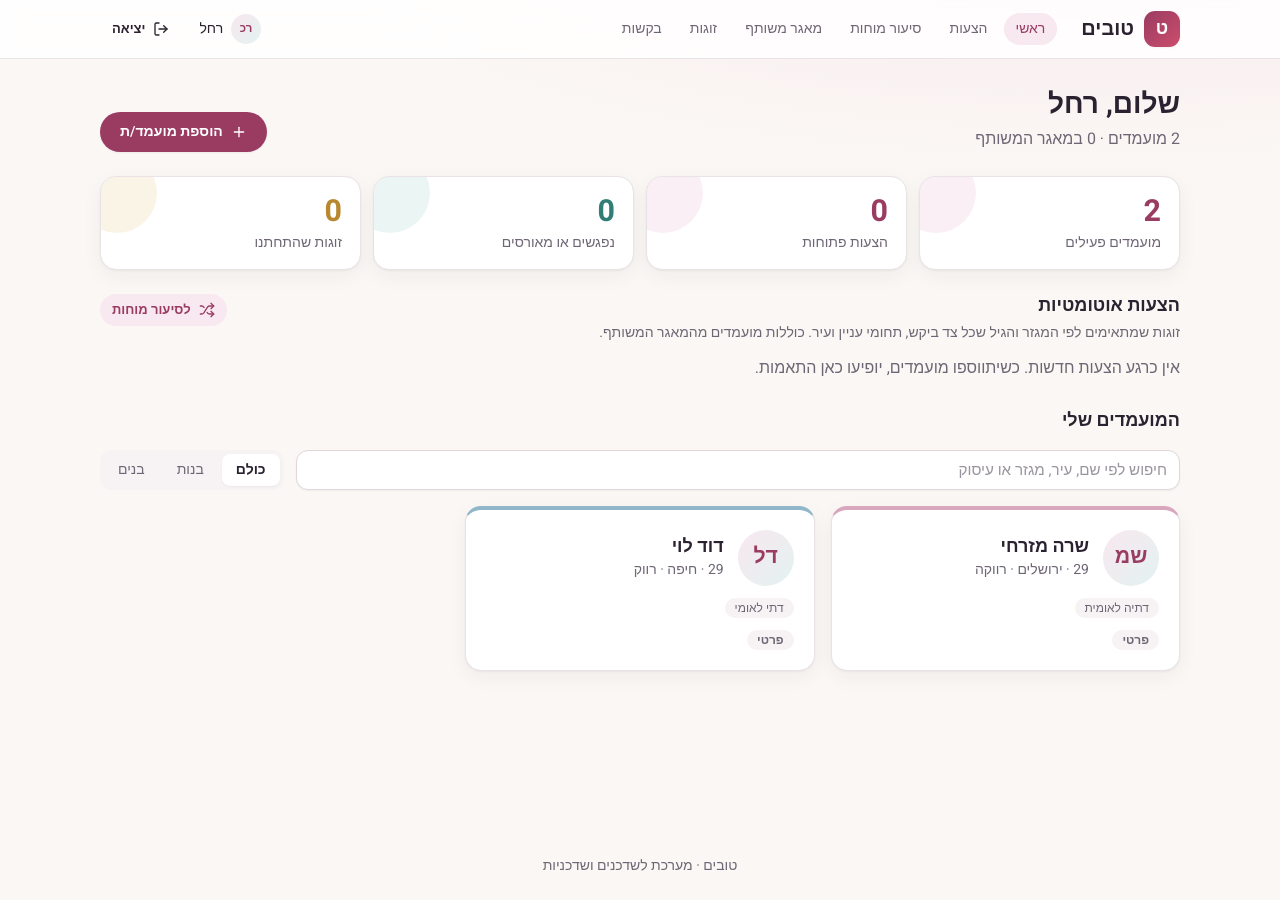
it: singles list › lists my singles, newest first, and filters them by search
Step 1. Type "חיפה" into the search field labelled "חיפוש לפי שם, עיר, מגזר או עיסוק" → (738, 470), box [296,450,1180,490]
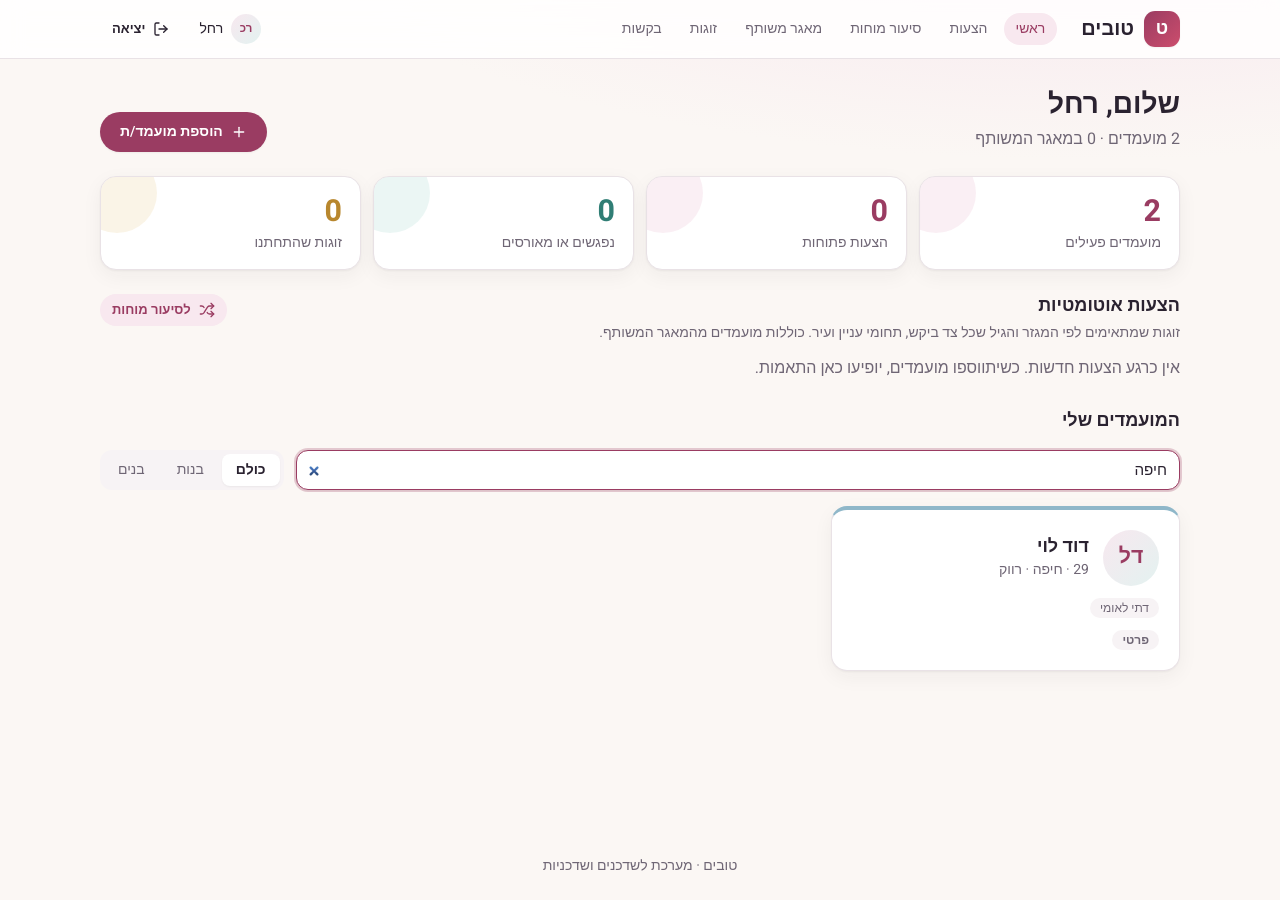
Expected: the heading "דוד לוי" is shown, [1037,533,1089,560]
Expected: the link "שרה מזרחי" is gone
